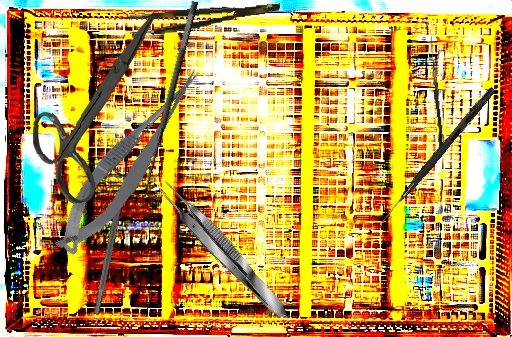Fixation Ring: (84, 166, 137, 317)
Hook Surgical: (378, 85, 496, 228), (136, 0, 214, 202), (425, 35, 446, 151)
Iris Scissors: (28, 15, 162, 205)
Micro Scissor: (36, 61, 226, 264)
Tissue Forceps: (151, 175, 296, 327), (128, 1, 282, 37)
